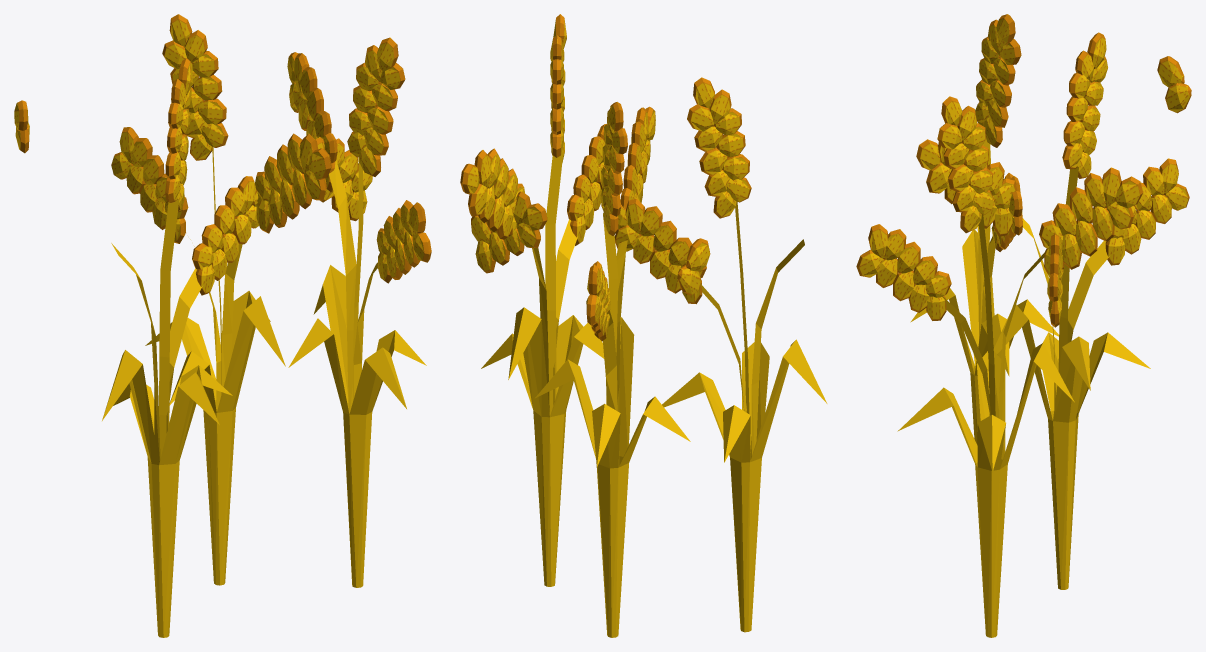
File: ArrozF3.glb
3 views of the same model, side by side, from view 1: azimuth 30°, elevation 25°; view 2: azimuth 150°, elevation 25°; view 3: azimuth 270°, elevation 25° (orthographic). The views are drawn at different scales.
Visible parts, largest first — view 1: ArrozF3; view 2: ArrozF3; view 3: ArrozF3.
Part boxes in pixels (x1=…): ArrozF3: x1=14, y1=14, x2=431, y2=637; ArrozF3: x1=460, y1=14, x2=827, y2=637; ArrozF3: x1=856, y1=14, x2=1191, y2=637.
Bounding box in the file's own units: 0.6568 × 1.04 × 0.5798.
1 material, 1 textured.
